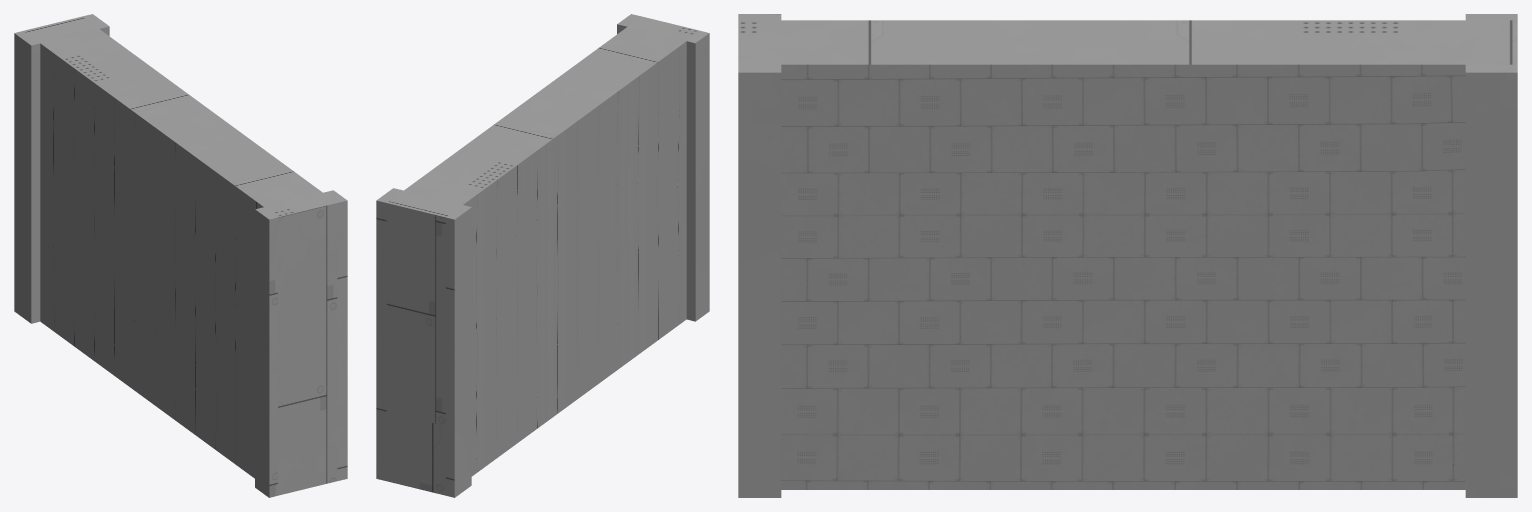
Rendered from wall.fbx.
3 renders of one model, left to right at view 1: azimuth 30°, elevation 25°; view 2: azimuth 150°, elevation 25°; view 3: azimuth 270°, elevation 25°, orthographic. The views are drawn at different scales.
Parts seen in each view (by area): view 1: Wall; view 2: Wall; view 3: Wall.
Boxes of the visible parts, x1,y1,x2,y2 form: Wall: [14, 14, 347, 497]; Wall: [376, 14, 709, 497]; Wall: [738, 14, 1517, 497].
Bounding box in the file's own units: 266 × 900 × 1494.
